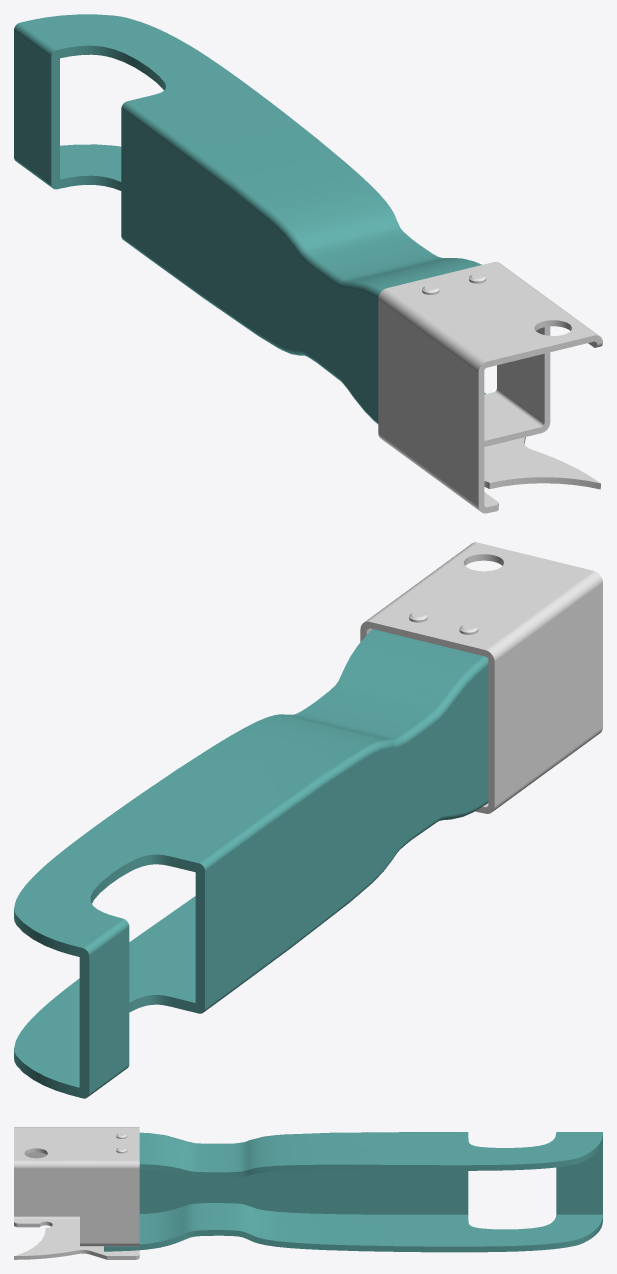
The model's file is 813_can_opener.glb.
3 views of the same model, one above another, from view 1: azimuth 30°, elevation 25°; view 2: azimuth 150°, elevation 25°; view 3: azimuth 270°, elevation 25° (orthographic). The views are drawn at different scales.
Visible parts, largest first — view 1: Body; view 2: Body; view 3: Body.
Boxes of the visible parts, x1,y1,x2,y2 form: Body: [14, 14, 602, 513]; Body: [14, 542, 602, 1098]; Body: [14, 1127, 602, 1259].
Size of the model in its own units: 0.0215 by 0.0267 by 0.1406.
